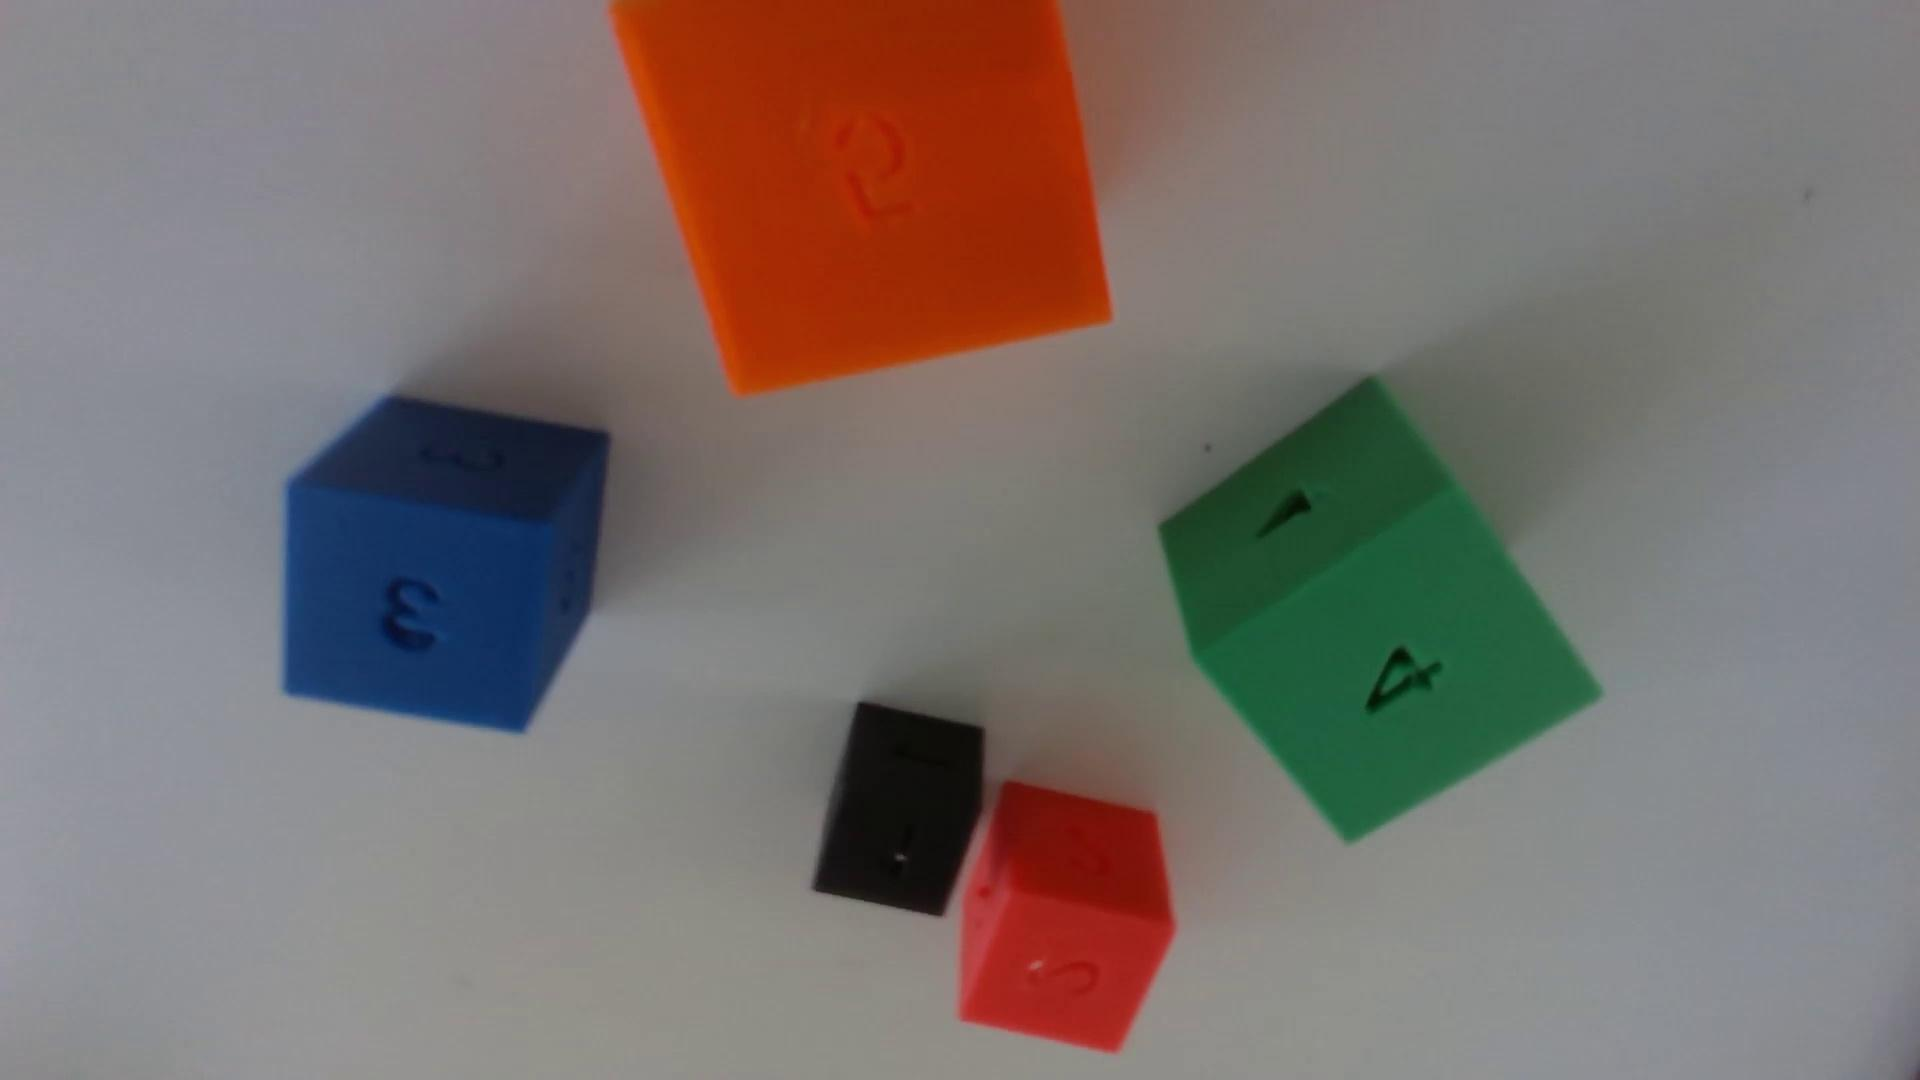black: (812, 700, 985, 916)
blue: (284, 396, 609, 731)
green: (1159, 378, 1598, 839)
orange: (611, 0, 1112, 393)
red: (957, 781, 1175, 1051)
